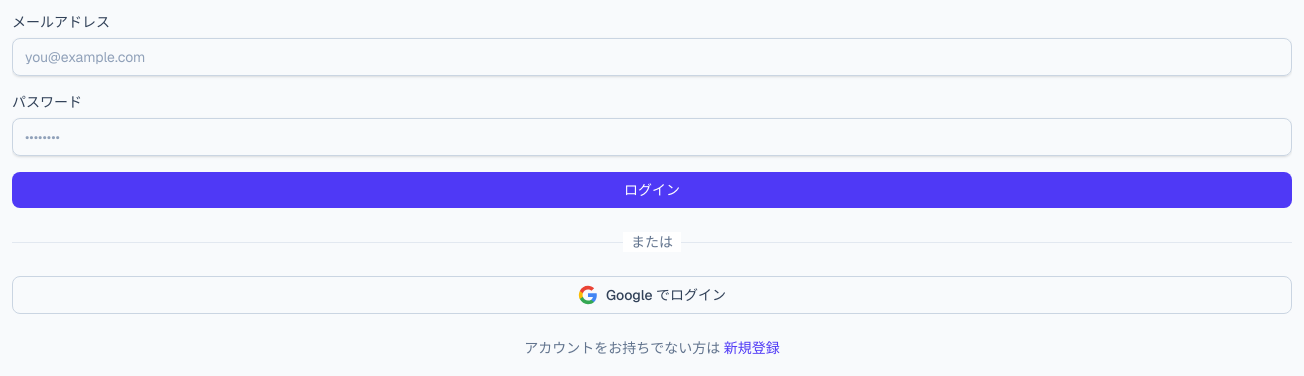
Scenario: LoginForm › switches to register mode when clicking new registration link
Click the button "新規登録". click: (752, 348)
box: x1=724 y1=338 x2=780 y2=358
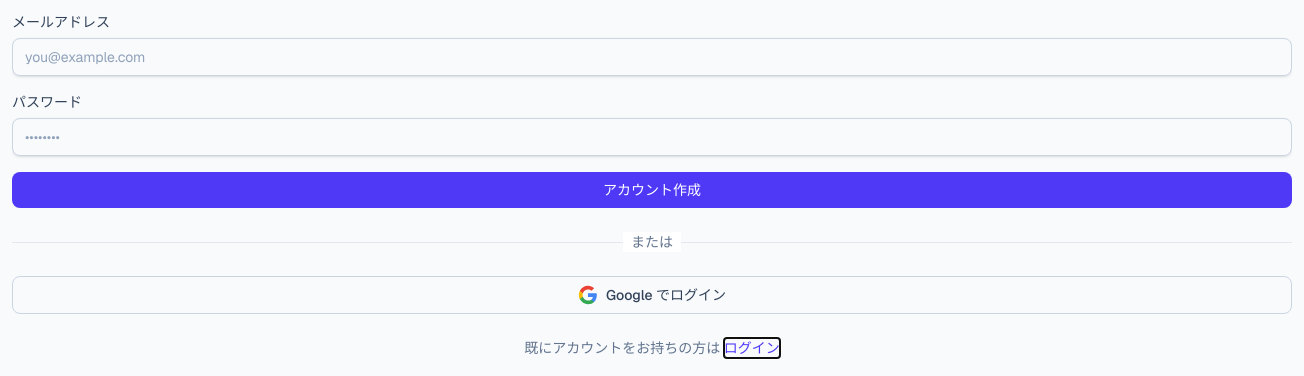
Now the button "アカウント作成" is shown, box x1=12 y1=172 x2=1292 y2=208
Now the button "ログイン" is shown, box x1=724 y1=338 x2=780 y2=358
